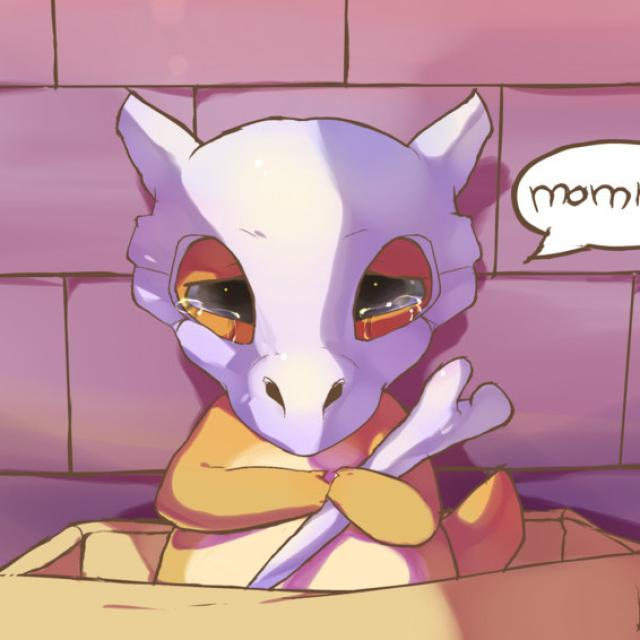Cubone: (102, 127, 508, 587)
